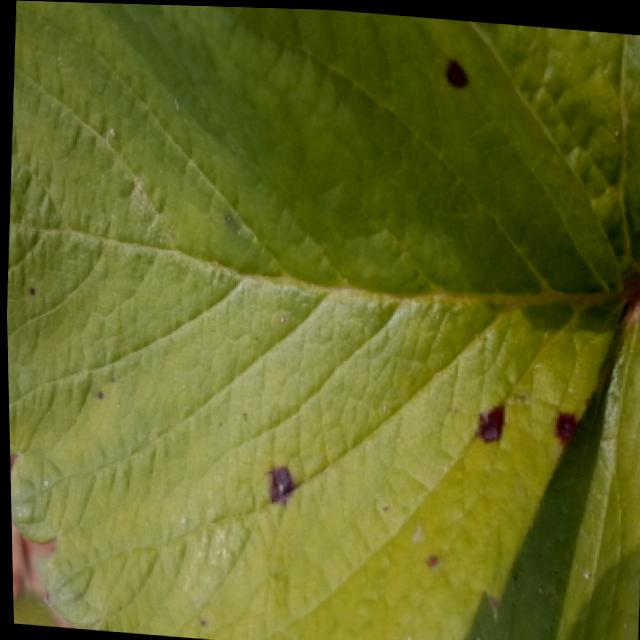Leaf Spot: (5, 0, 634, 640)
